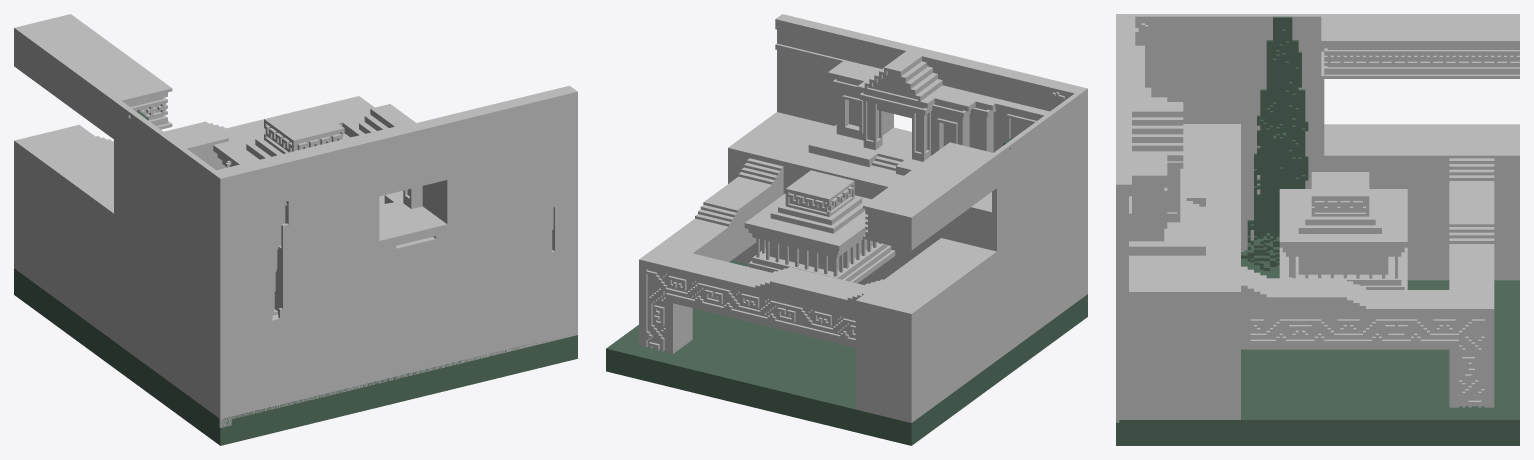
The model's file is TEMPLO2.fbx.
3 renders of one model, left to right at view 1: azimuth 30°, elevation 25°; view 2: azimuth 150°, elevation 25°; view 3: azimuth 270°, elevation 25°, orthographic. The views are drawn at different scales.
Parts seen in each view (by area): view 1: TEMPLO_base:Mesh, AGUA_2:Mesh; view 2: TEMPLO_base:Mesh, AGUA_2:Mesh; view 3: TEMPLO_base:Mesh, AGUA_2:Mesh.
Part boxes in pixels (<box>): TEMPLO_base:Mesh: <box>14,14,577,427</box>; AGUA_2:Mesh: <box>14,111,577,445</box>; TEMPLO_base:Mesh: <box>639,14,1087,422</box>; AGUA_2:Mesh: <box>606,137,1087,445</box>; TEMPLO_base:Mesh: <box>1116,14,1519,422</box>; AGUA_2:Mesh: <box>1116,16,1519,445</box>.
Bounding box in the file's own units: 12.6 × 9 × 12.6.
